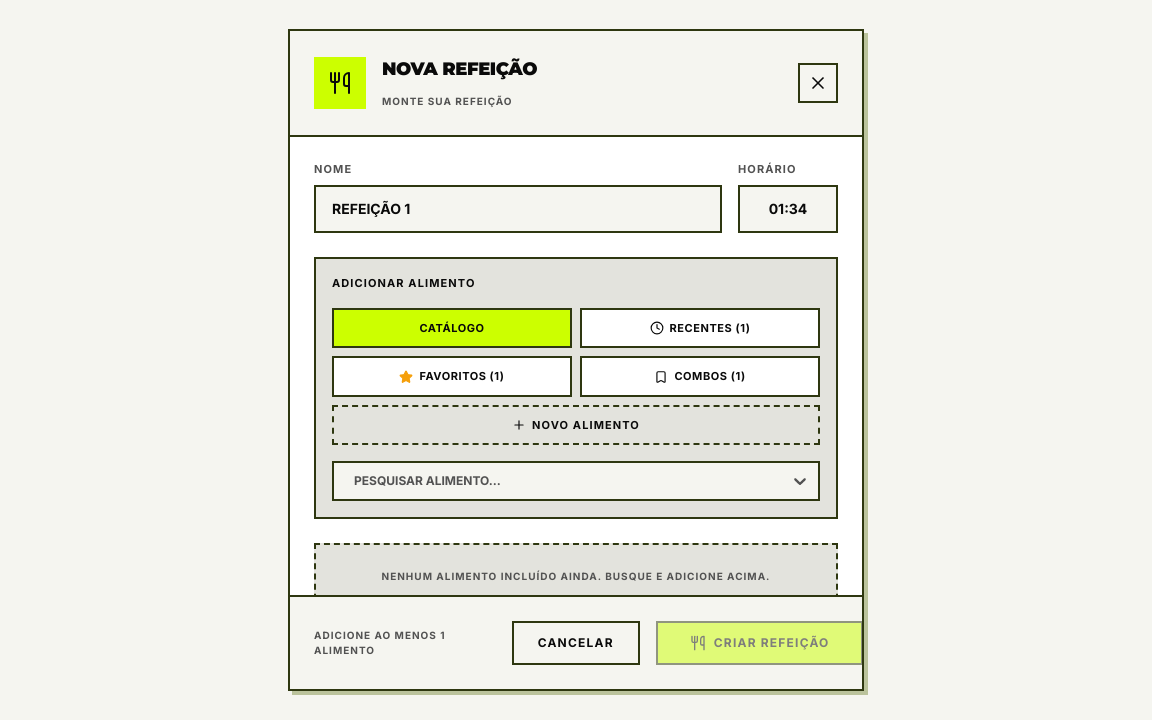
Test: NewMealModal › deve alternar para a aba de favoritos e permitir selecionar um alimento (BL-19)
The image size is (1152, 720).
Step 1. Click the button "Favoritos (1)" → (452, 377), box [332,356,572,397]
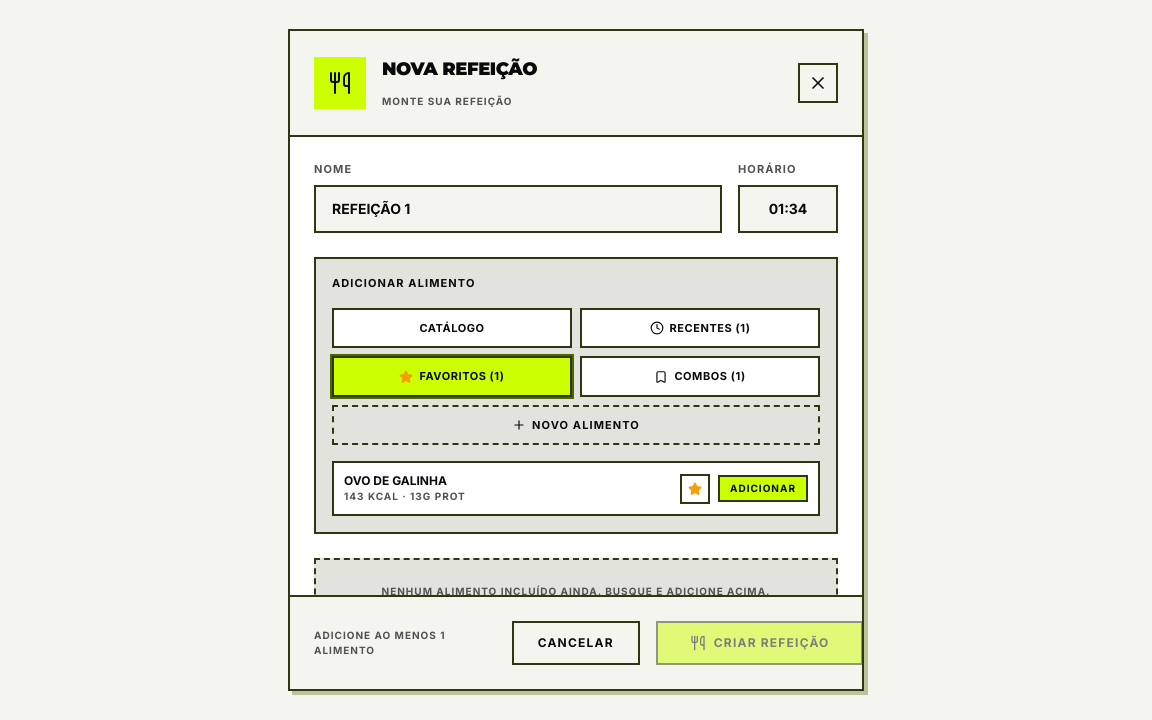
Check: the text "Ovo de galinha" is shown, box [344,473,447,488]
Step 2. Click the button "Adicionar" → (763, 489), box [718,475,808,502]
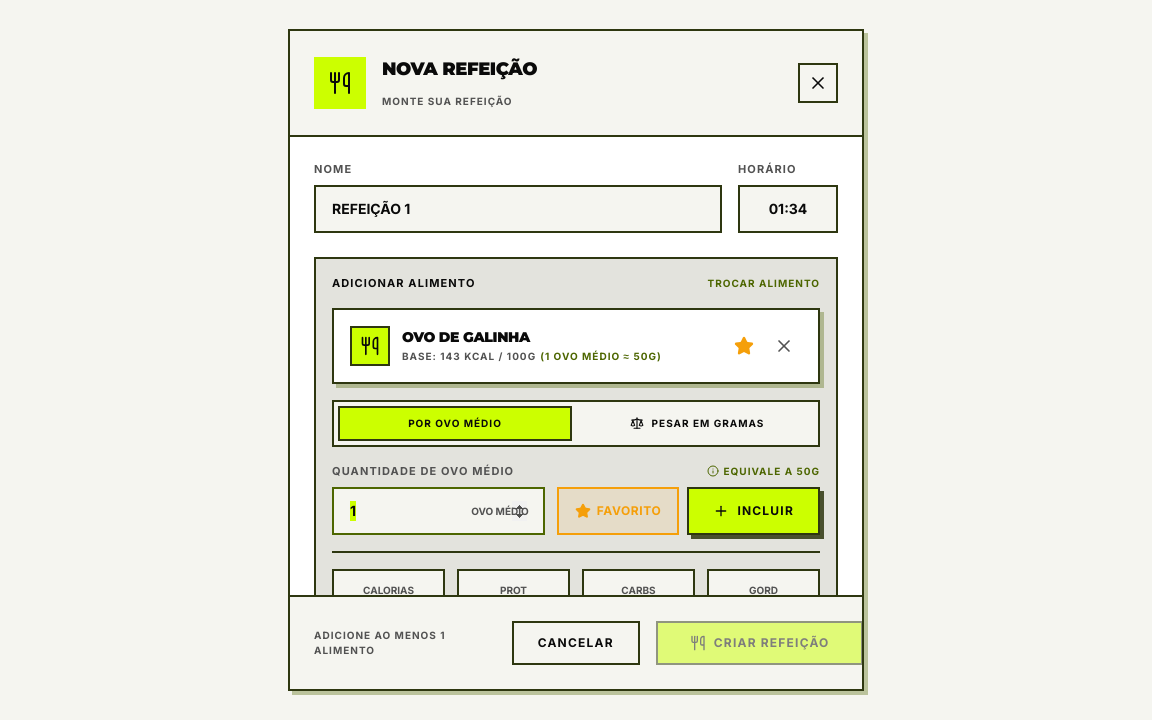
Check: the number field is shown, box [332,487,545,535]
